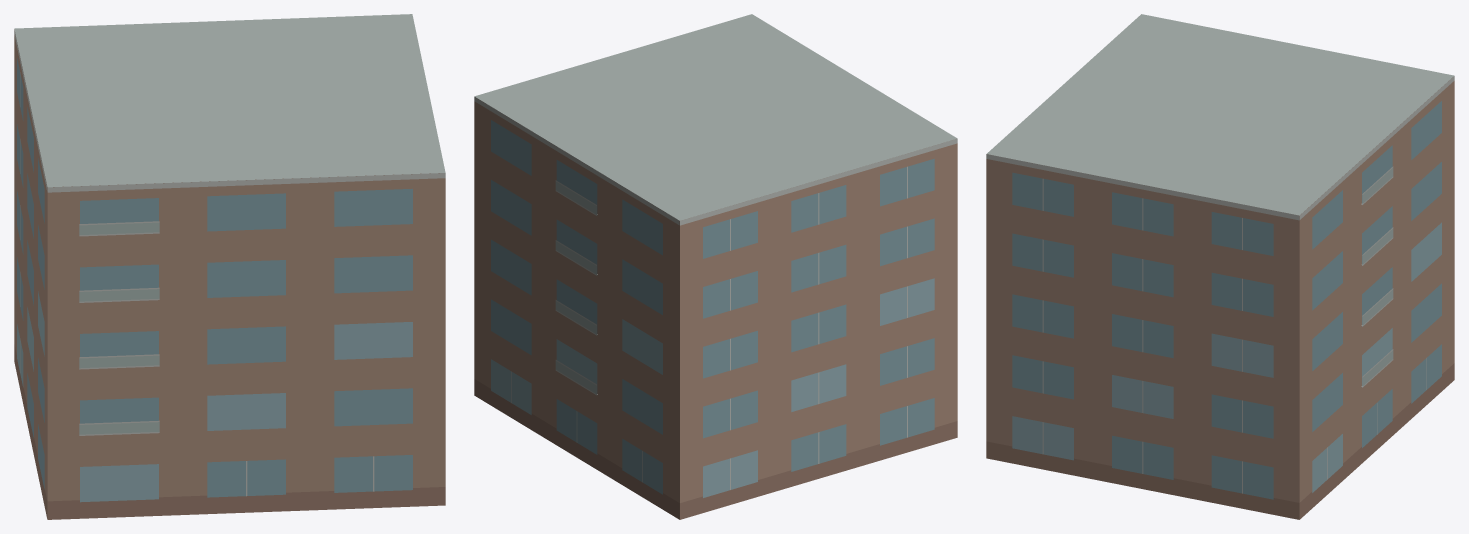
Rendered from survey-upis-32708798.glb.
3 renders of one model, left to right at view 1: azimuth 30°, elevation 25°; view 2: azimuth 150°, elevation 25°; view 3: azimuth 270°, elevation 25°, orthographic. The views are drawn at different scales.
Parts seen in each view (by area): view 1: survey-upis-32708798.tmp; view 2: survey-upis-32708798.tmp; view 3: survey-upis-32708798.tmp.
Part boxes in pixels (x1,y1,x2,y2): survey-upis-32708798.tmp: [14, 14, 445, 519]; survey-upis-32708798.tmp: [474, 14, 957, 519]; survey-upis-32708798.tmp: [986, 14, 1454, 519].
Bounding box in the file's own units: 21.66 × 15.25 × 21.27.
